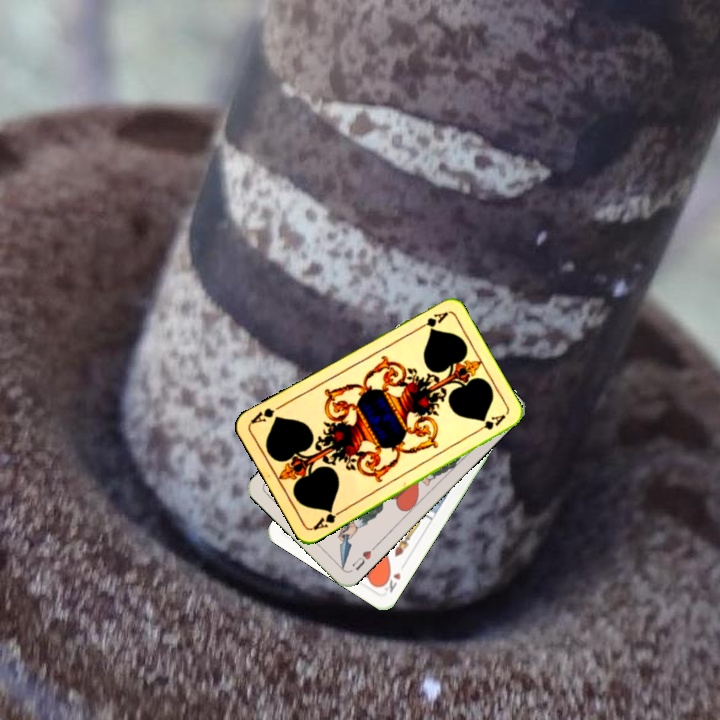GA: (309, 505, 346, 533), (412, 308, 450, 333)
HK: (377, 567, 403, 595)
HU: (348, 542, 379, 573)
